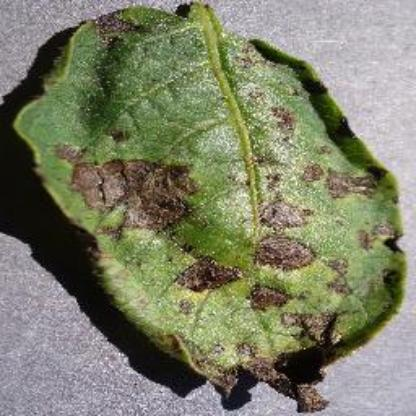Early-Blight: (16, 5, 402, 407)
